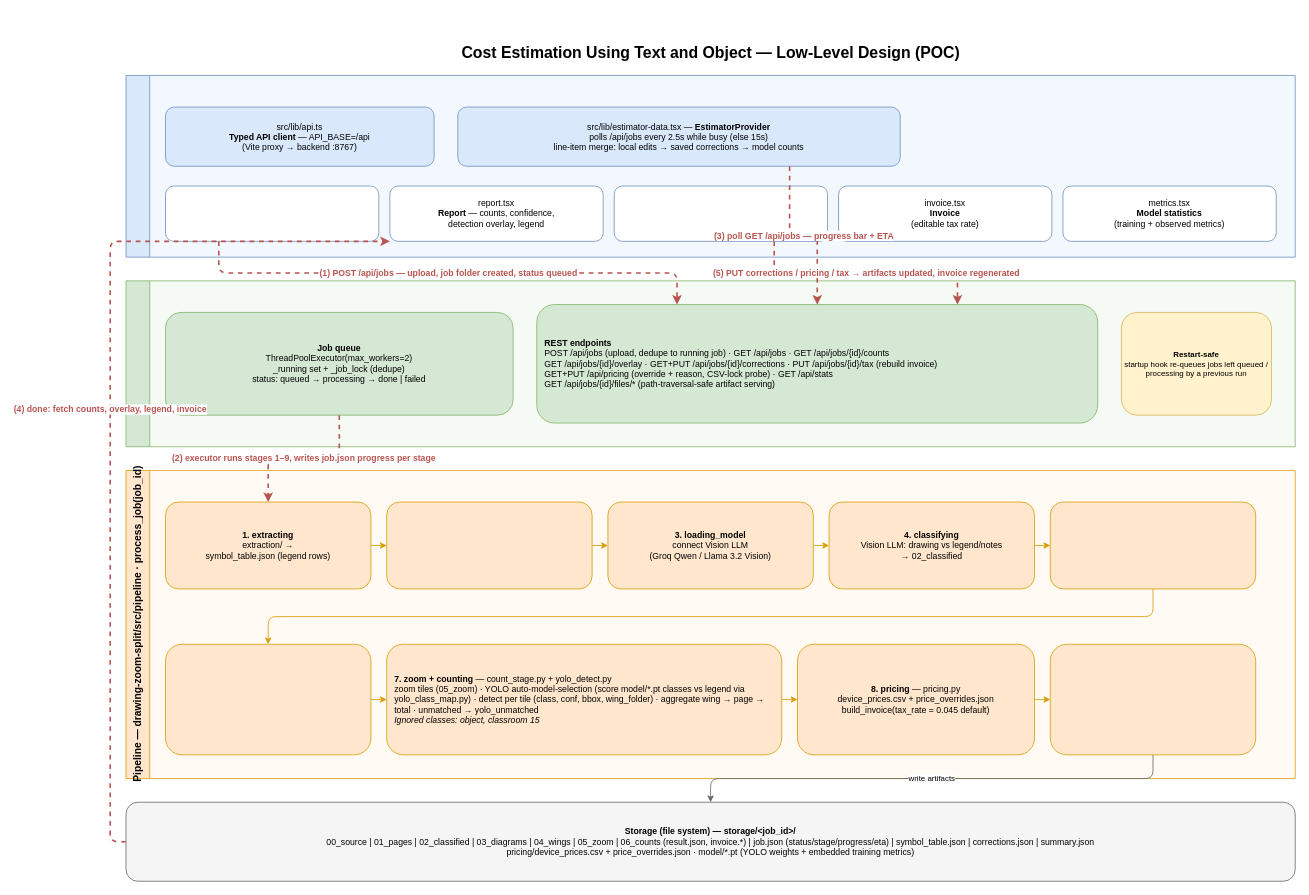
The diagram is 1309 pixels wide and 895 high, and some of its shapes have lost their labels. The box of each missing label's shape, as (x1, y1, x2, y2) in pixels:
2. rendering page_render.py (PyMuPDF, 200 DPI) → 01_pages/*.png: (386, 501, 592, 589)
5. drawing_crop crop drawing region → 03_diagrams: (1050, 501, 1256, 589)
6. wing_map + wing_crop Vision LLM wing mapping → 04_wings/*.png: (165, 643, 371, 755)
9. invoice — invoice_pdf.py (ReportLab) → 06_counts/invoice.{json, csv, pdf}: (1050, 643, 1256, 755)
Backend — FastAPI app.py (:8767): (125, 280, 1295, 447)
Frontend — i-TAB Estimator Pro (React + TanStack, Vite :8080): (125, 75, 1295, 257)
index.tsx Upload (single + batch ≤10), recent uploads, invoice download: (165, 185, 379, 241)
pricing.tsx Pricing editor (override + reason): (613, 185, 828, 241)
